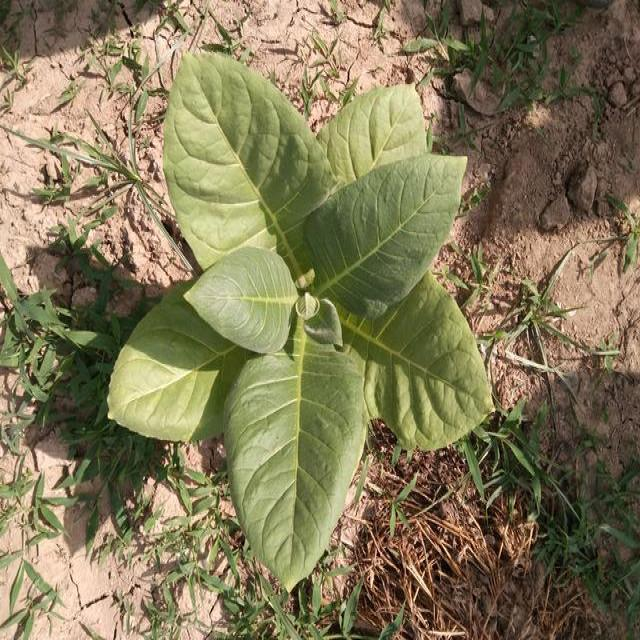crop: (109, 45, 495, 595)
